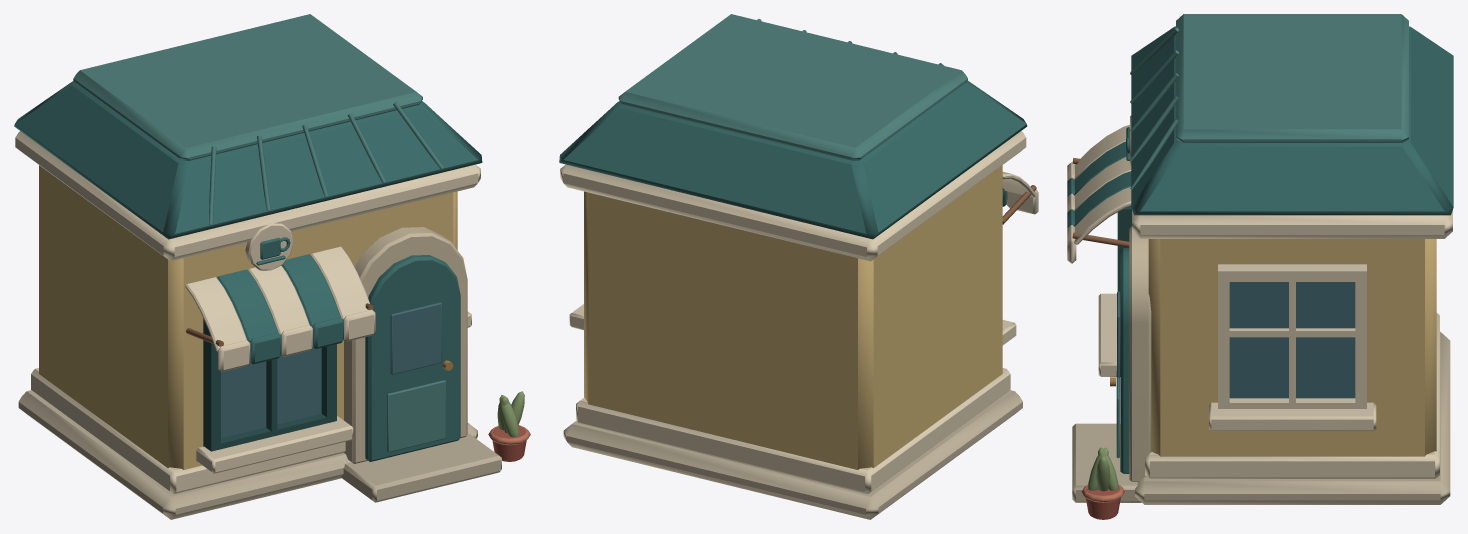
Rendered from cafe_level_1.glb.
3 views of the same model, side by side, from view 1: azimuth 30°, elevation 25°; view 2: azimuth 150°, elevation 25°; view 3: azimuth 270°, elevation 25° (orthographic). The views are drawn at different scales.
Parts seen in each view (by area): view 1: cafe_level_1_runtime; view 2: cafe_level_1_runtime; view 3: cafe_level_1_runtime.
Part boxes in pixels (x1=…): cafe_level_1_runtime: x1=14, y1=14, x2=530, y2=519; cafe_level_1_runtime: x1=559, y1=14, x2=1038, y2=519; cafe_level_1_runtime: x1=1067, y1=14, x2=1453, y2=519.
Bounding box in the file's own units: 2.99 × 2.88 × 2.82.
